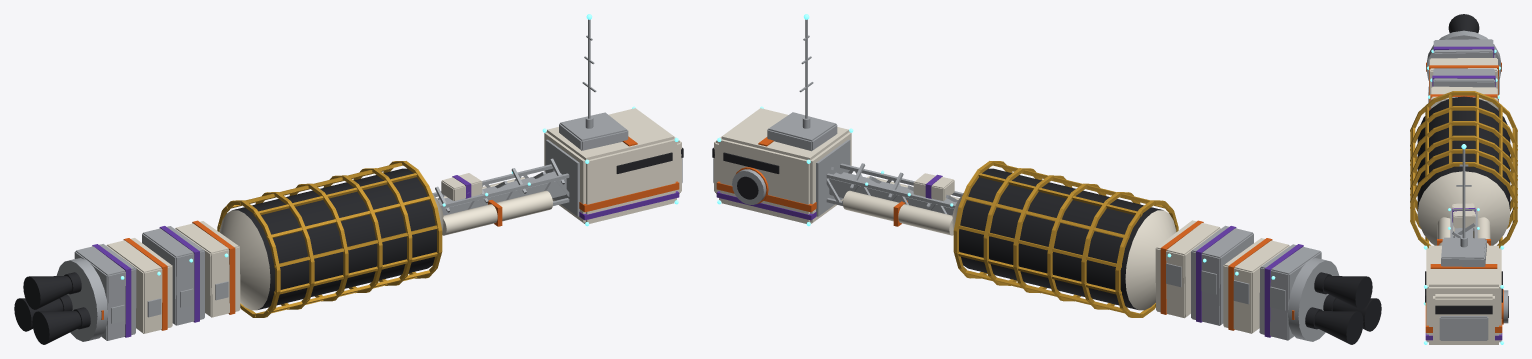
Rendered from meridian.glb.
3 views of the same model, side by side, from view 1: azimuth 30°, elevation 25°; view 2: azimuth 150°, elevation 25°; view 3: azimuth 270°, elevation 25° (orthographic). The views are drawn at different scales.
Visible parts, largest first — view 1: meridian_meridian_hull, meridian_meridian_dark, meridian_meridian_plate, meridian_meridian_cage, meridian_meridian_orange, meridian_meridian_violet; view 2: meridian_meridian_dark, meridian_meridian_hull, meridian_meridian_plate, meridian_meridian_cage, meridian_meridian_orange, meridian_meridian_violet; view 3: meridian_meridian_hull, meridian_meridian_plate, meridian_meridian_cage, meridian_meridian_dark, meridian_meridian_orange, meridian_meridian_violet, meridian_meridian_lights.
Part boxes in pixels (left/top/right/bottom): meridian_meridian_hull: left=106, top=108, right=681, bottom=333; meridian_meridian_dark: left=14, top=147, right=683, bottom=344; meridian_meridian_plate: left=56, top=19, right=682, bottom=341; meridian_meridian_cage: left=217, top=161, right=442, bottom=317; meridian_meridian_orange: left=101, top=136, right=679, bottom=330; meridian_meridian_violet: left=92, top=175, right=679, bottom=337; meridian_meridian_dark: left=712, top=147, right=1381, bottom=344; meridian_meridian_hull: left=714, top=108, right=1289, bottom=333; meridian_meridian_plate: left=713, top=19, right=1339, bottom=341; meridian_meridian_cage: left=953, top=161, right=1178, bottom=317; meridian_meridian_orange: left=716, top=137, right=1294, bottom=330; meridian_meridian_violet: left=716, top=174, right=1303, bottom=337; meridian_meridian_hull: left=1417, top=58, right=1510, bottom=344; meridian_meridian_plate: left=1426, top=30, right=1508, bottom=340; meridian_meridian_cage: left=1410, top=91, right=1517, bottom=248; meridian_meridian_dark: left=1417, top=14, right=1510, bottom=317; meridian_meridian_orange: left=1425, top=62, right=1503, bottom=332; meridian_meridian_violet: left=1425, top=46, right=1502, bottom=340; meridian_meridian_lights: left=1423, top=49, right=1504, bottom=344.
Bounding box in the file's own units: 300 × 97.05 × 48.69.
